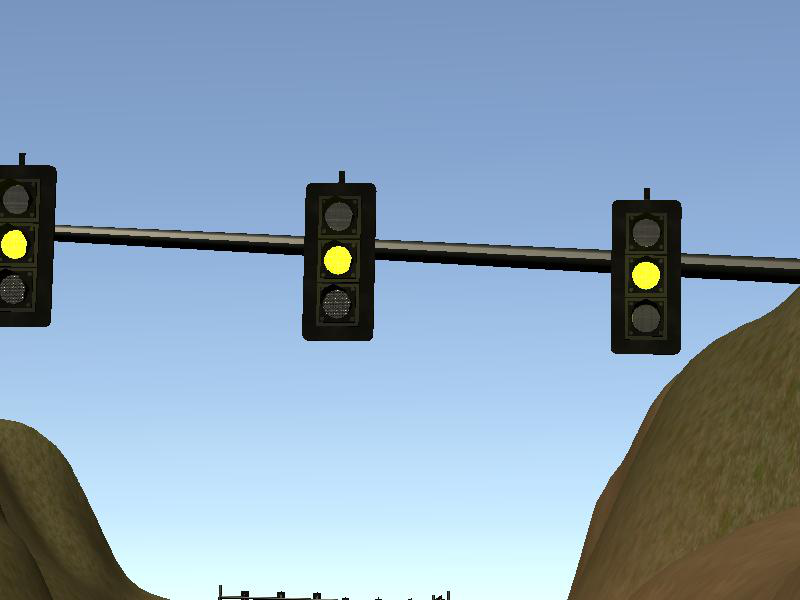yellow: (611, 200, 683, 355), (305, 181, 373, 340), (1, 164, 59, 324)
